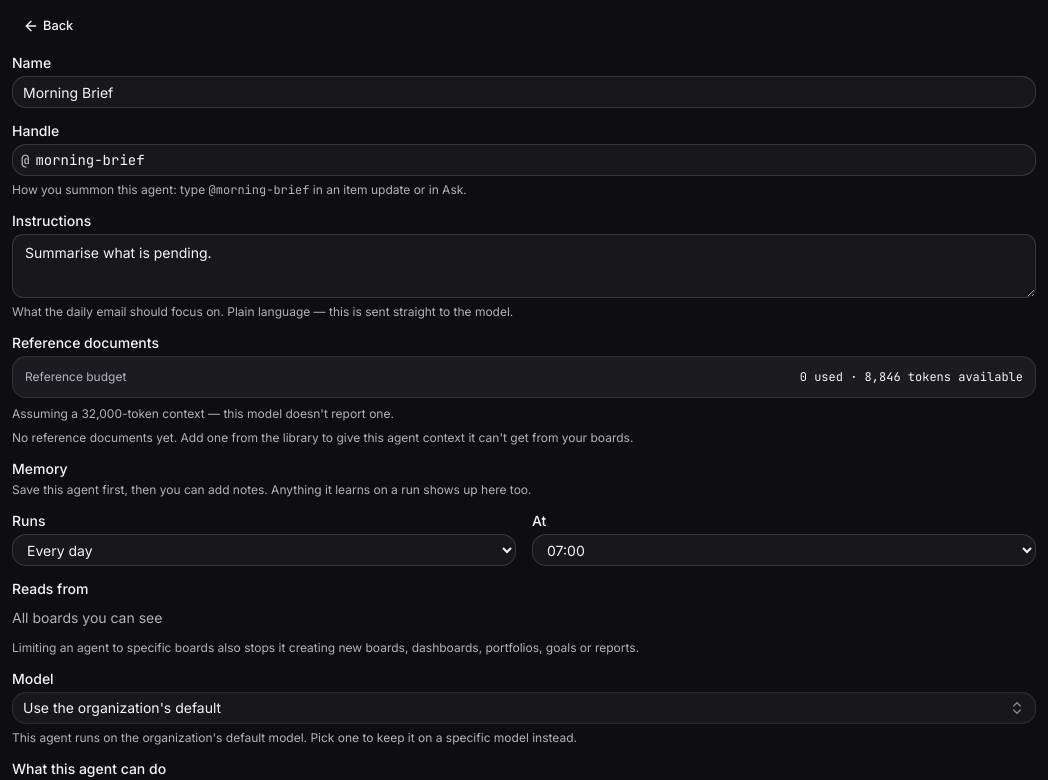
Test: AgentEditor · handle, built-in and cadence › prefills the handle from the name in create mode
Replace the text in the field labelled "Name" with "Overdue Chaser": (524, 92) [12,76,1036,108]
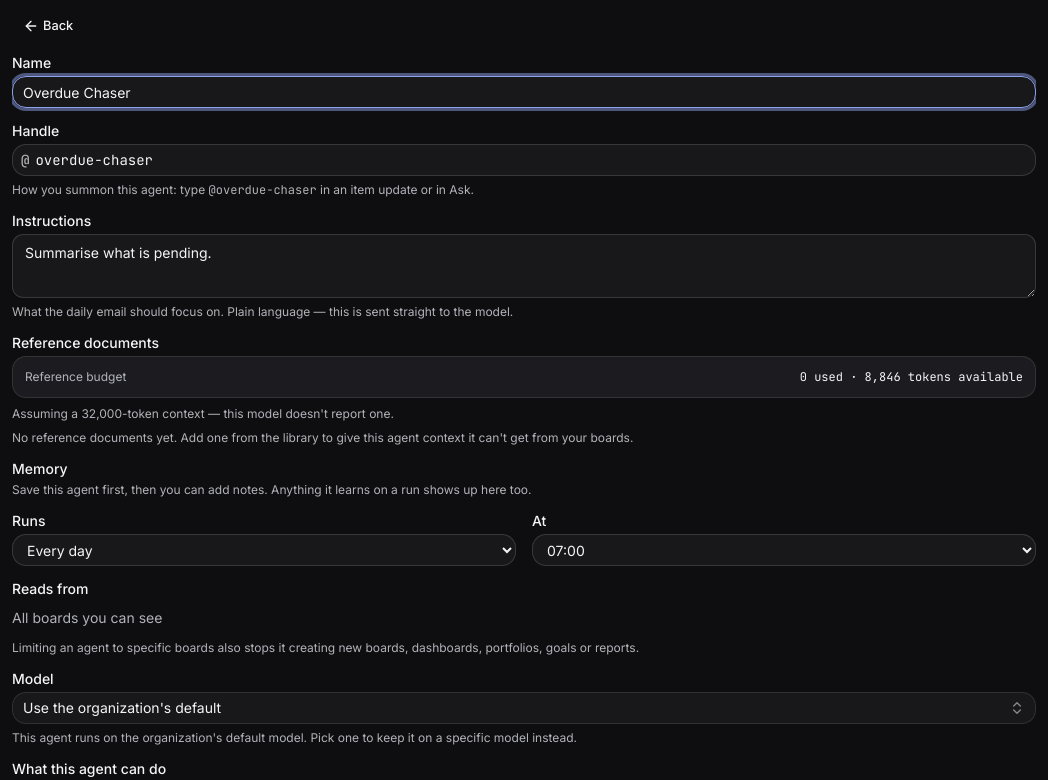
Expected: the field labelled "Handle" holds "overdue-chaser", [29,144,1035,176]
